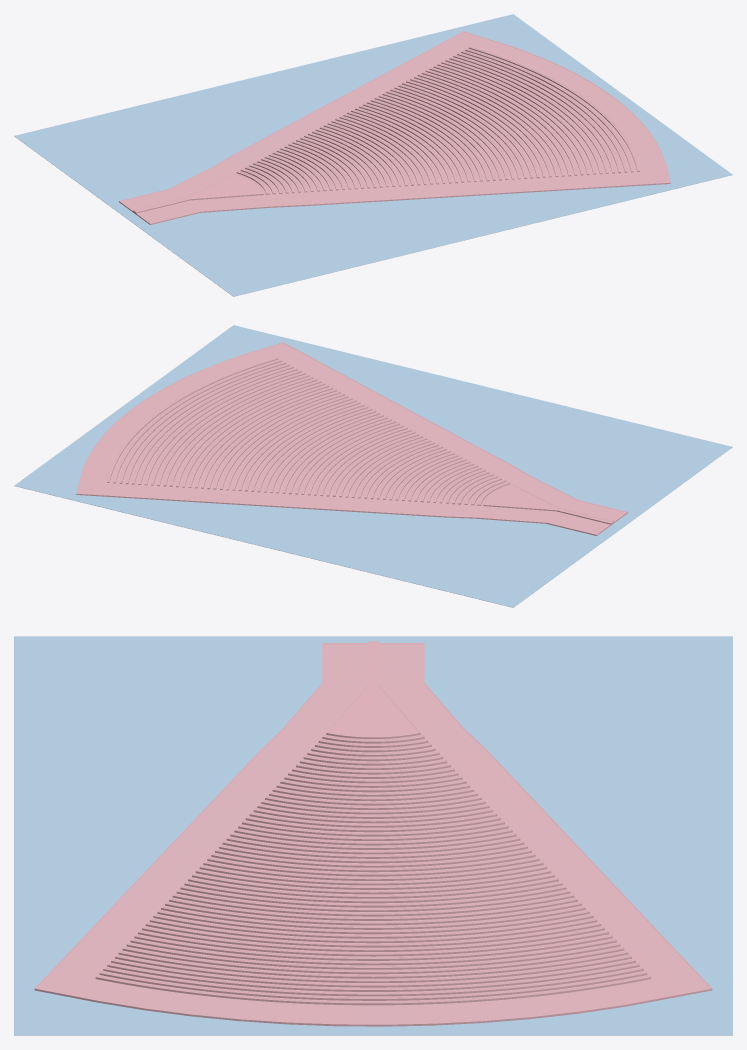
The model's file is lxt-gc.glb.
3 renders of one model, top to bottom at view 1: azimuth 30°, elevation 25°; view 2: azimuth 150°, elevation 25°; view 3: azimuth 270°, elevation 25°, orthographic. The views are drawn at different scales.
Parts seen in each view (by area): view 1: box_top, slab_0, ridge_0, ridge_60, ridge_59, ridge_58, ridge_57, ridge_56, ridge_55, ridge_54, ridge_53, ridge_52 (+16 smaller); view 2: box_top, slab_0, ridge_0, ridge_60, ridge_59, ridge_58, ridge_57, ridge_56, ridge_55, ridge_54, ridge_53, ridge_52 (+16 smaller); view 3: box_top, slab_0, ridge_0, ridge_60, ridge_58, ridge_59, ridge_57, ridge_56, ridge_55, ridge_54, ridge_53, ridge_51 (+44 smaller).
Boxes of the visible parts, x1,y1,x2,y2 form: box_top: (14, 14, 732, 296); slab_0: (119, 31, 670, 224); ridge_0: (133, 173, 263, 213); ridge_60: (468, 46, 639, 171); ridge_59: (465, 49, 633, 172); ridge_58: (461, 51, 627, 172); ridge_57: (457, 53, 620, 173); ridge_56: (453, 55, 614, 173); ridge_55: (449, 57, 608, 173); ridge_54: (445, 59, 602, 174); ridge_53: (441, 61, 595, 174); ridge_52: (437, 63, 589, 175); box_top: (14, 325, 732, 607); slab_0: (76, 342, 627, 535); ridge_0: (483, 484, 613, 524); ridge_60: (107, 357, 278, 482); ridge_59: (113, 360, 281, 483); ridge_58: (119, 362, 285, 483); ridge_57: (126, 364, 289, 484); ridge_56: (132, 366, 293, 484); ridge_55: (138, 368, 297, 484); ridge_54: (144, 370, 301, 485); ridge_53: (151, 372, 305, 485); ridge_52: (157, 374, 309, 486); box_top: (14, 636, 732, 1035); slab_0: (34, 643, 712, 1026); ridge_0: (326, 641, 420, 738); ridge_60: (95, 975, 651, 1005); ridge_58: (103, 967, 643, 996); ridge_59: (99, 971, 647, 1000); ridge_57: (107, 963, 639, 991); ridge_56: (111, 959, 635, 987); ridge_55: (115, 955, 631, 982); ridge_54: (118, 951, 628, 978); ridge_53: (122, 947, 624, 974); ridge_51: (130, 939, 616, 965).
Bounding box in the file's own units: 92.06 × 0.44 × 70.11.
